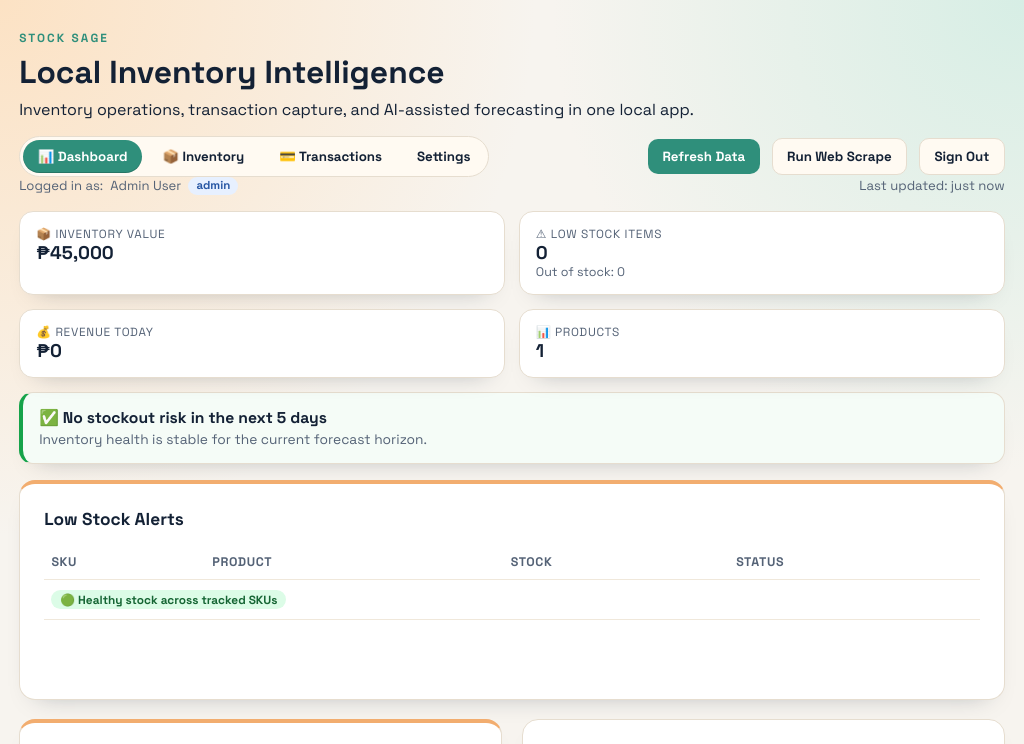
Test: Dashboard rendering › shows a toast notification after adjusting stock
Click the button "📦 Inventory" at (203, 156), box [148,140,259,173]
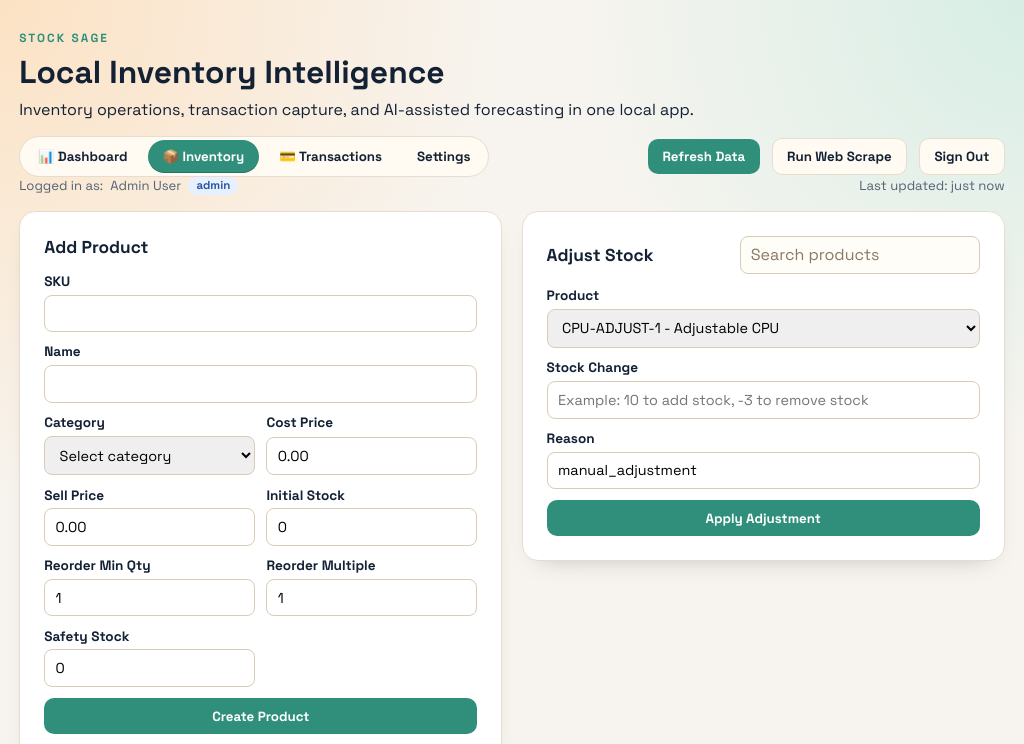
Type "5" into the number field labelled "Stock Change" at (763, 400), box [547,381,980,419]
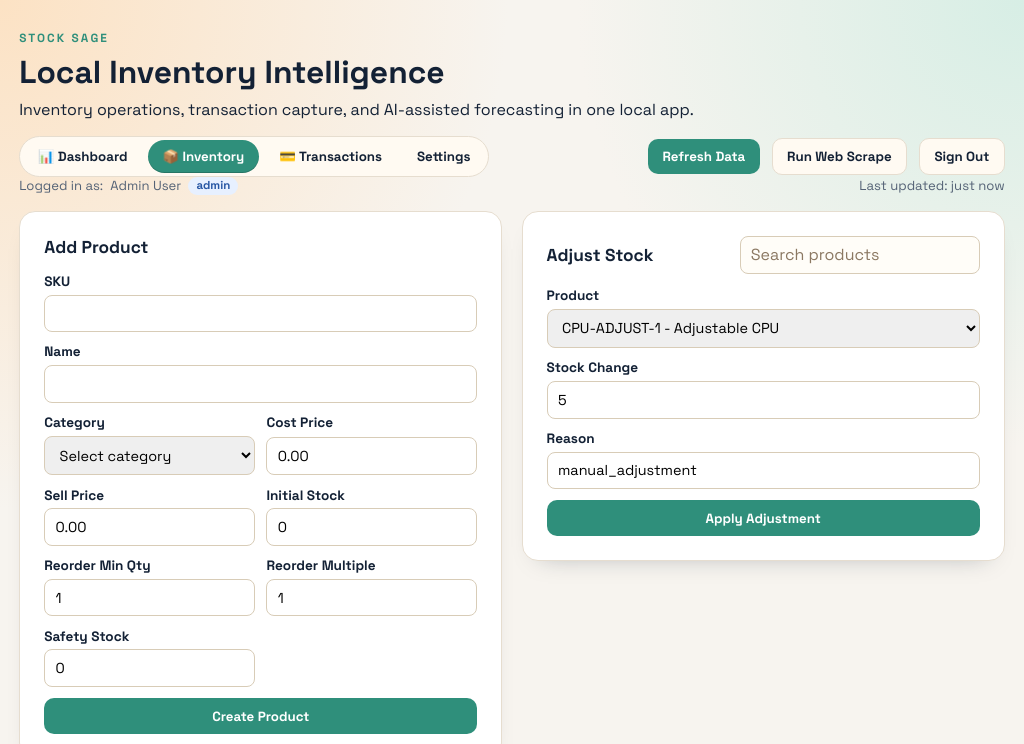
Click the button "Apply Adjustment" at (763, 518), box [547,500,980,536]
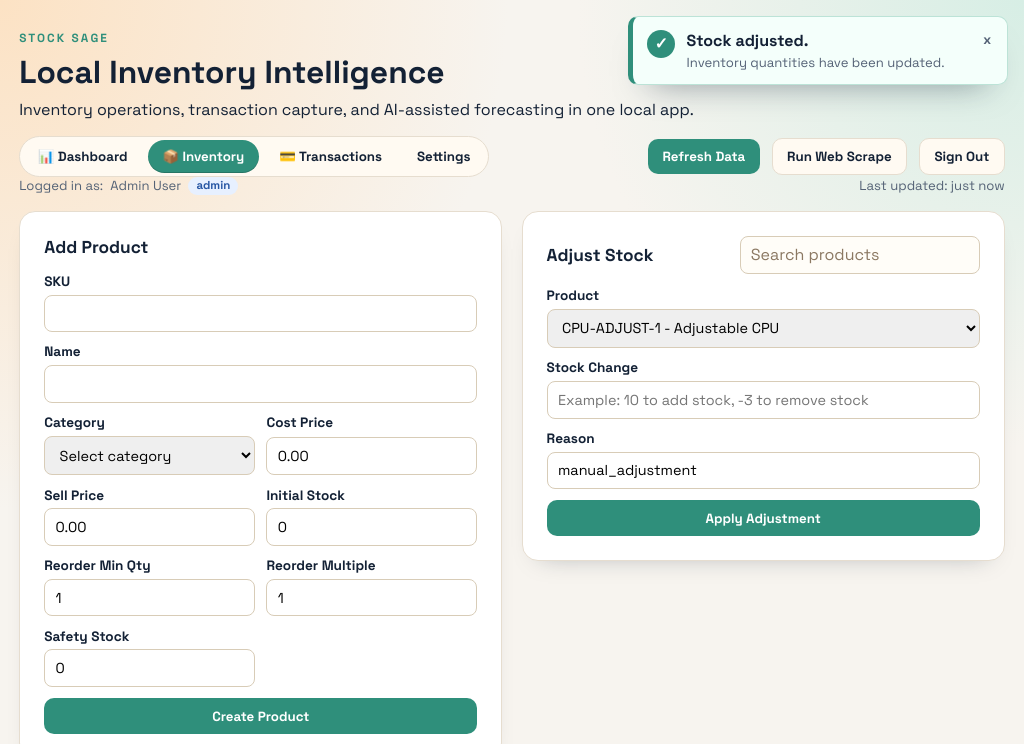
Check: the message shows "Stock adjusted.", box [687,30,808,51]
Check: the message shows "Inventory quantities have been updated.", box [687,54,944,70]
